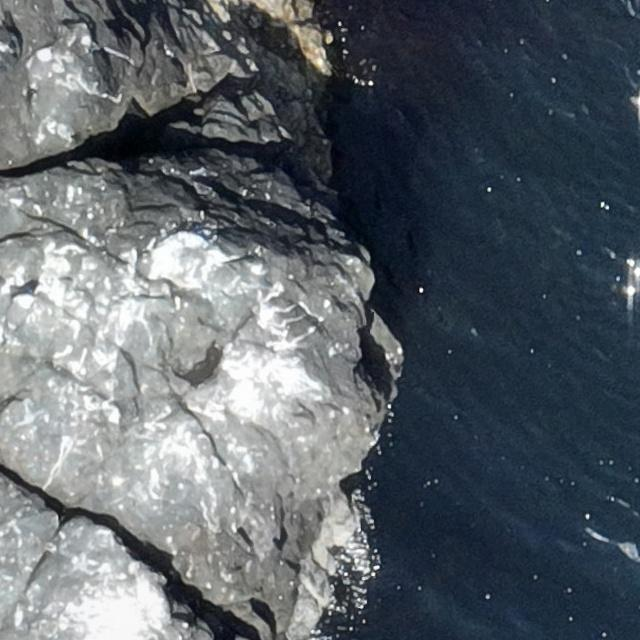umineko: (5, 293, 35, 339), (28, 48, 51, 96)
